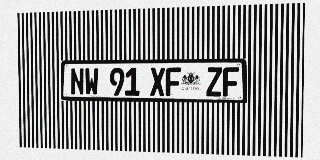1: (125, 68, 139, 96)
9: (110, 68, 124, 96)
F: (223, 67, 239, 97), (166, 67, 181, 96)
N: (70, 68, 84, 95)
W: (85, 68, 99, 95)
X: (150, 67, 165, 96)
Z: (206, 67, 222, 96)
